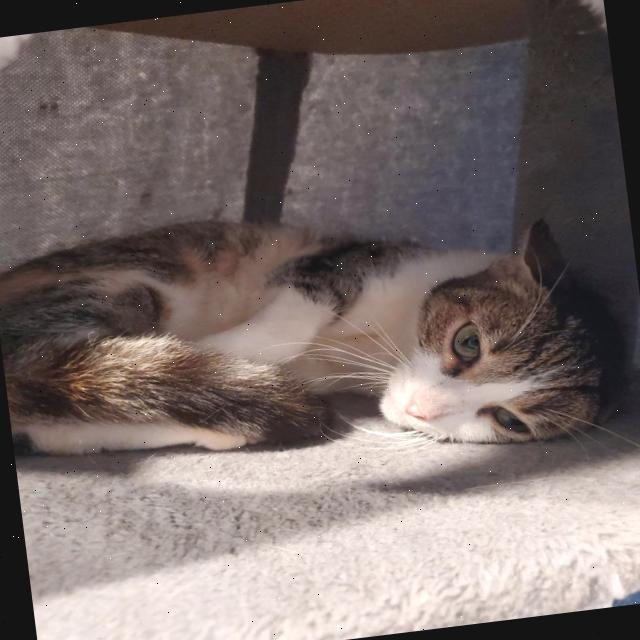calico_cat: (347, 195, 640, 473)
